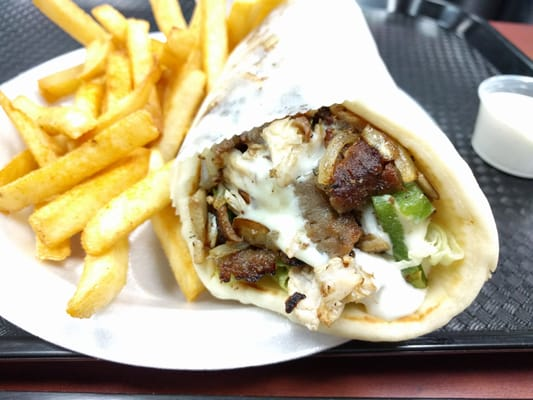soup: (154, 102, 491, 341)
